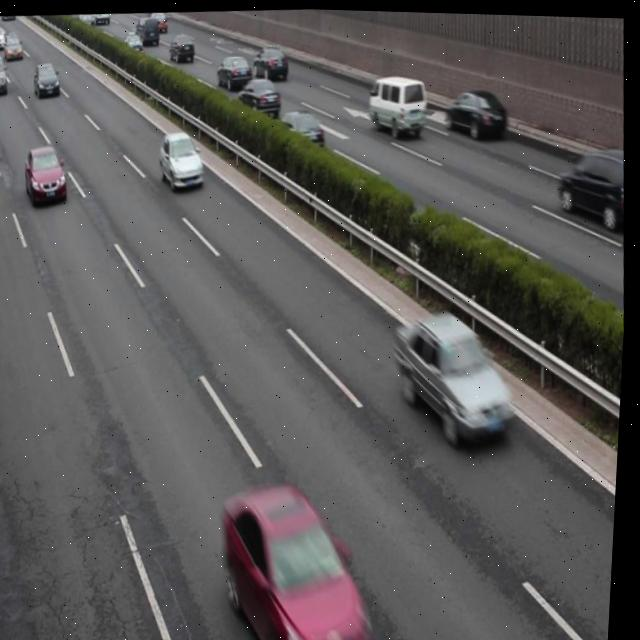car: (223, 480, 379, 640), (395, 304, 523, 443), (448, 85, 509, 138), (158, 128, 209, 191), (25, 144, 72, 206), (275, 105, 326, 149), (238, 76, 282, 116), (253, 43, 291, 78), (216, 52, 252, 88), (34, 62, 63, 97), (169, 31, 196, 64), (135, 16, 161, 46), (122, 29, 144, 57), (5, 33, 25, 61), (0, 24, 6, 50), (146, 11, 164, 16)
truck: (557, 142, 629, 226), (366, 72, 430, 136), (146, 11, 168, 32), (0, 54, 10, 95)
